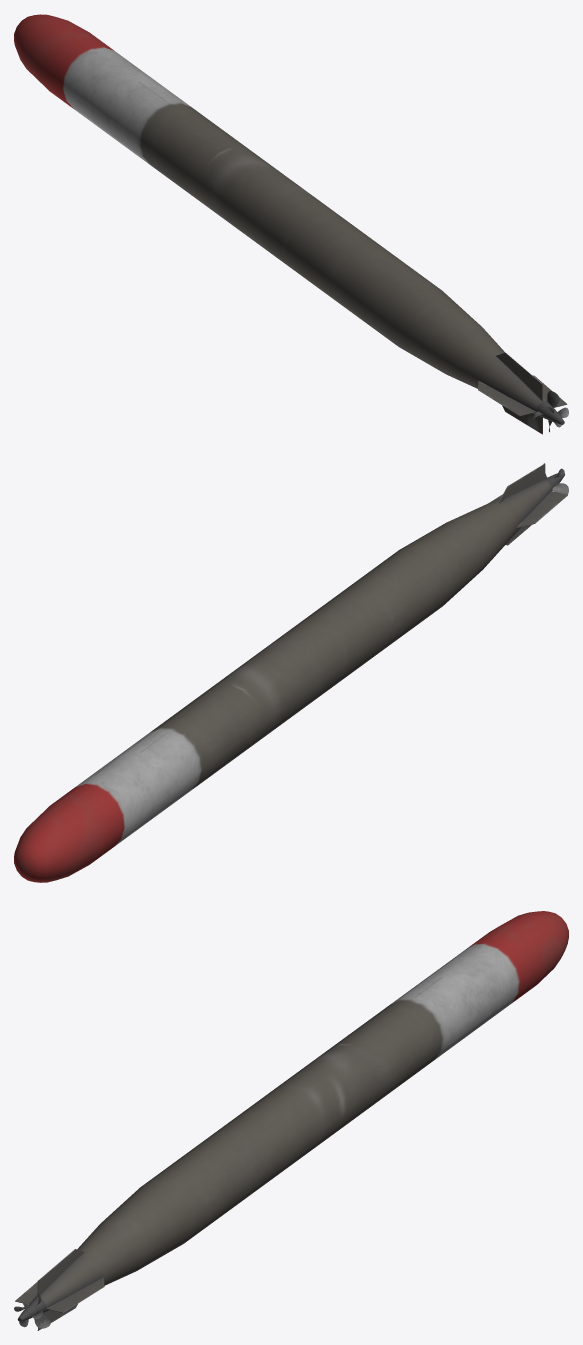
Rendered from torpedo.gltf.
The picture shows the model from 3 angles, top to bottom: view 1: azimuth 30°, elevation 25°; view 2: azimuth 150°, elevation 25°; view 3: azimuth 330°, elevation 25°; orthographic projection.
Visible parts, largest first — view 1: Cube_0; view 2: Cube_0; view 3: Cube_0.
Part boxes in pixels (box(x1,y1,x2,y2)): Cube_0: box(14, 14, 567, 434); Cube_0: box(14, 463, 567, 882); Cube_0: box(15, 911, 568, 1330).
Bounding box in the file's own units: 0.5615 × 0.5615 × 8.48.
Materials: 3 (3 with a texture image).
